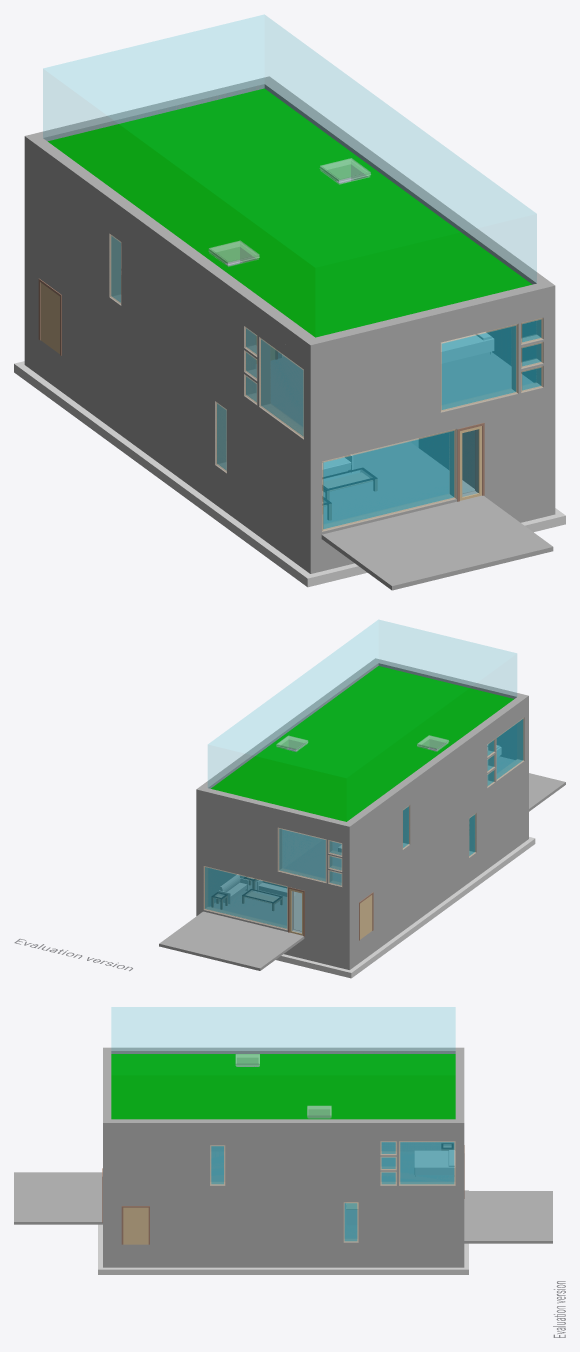
File: Duplex.glb
3 views of the same model, one above another, from view 1: azimuth 30°, elevation 25°; view 2: azimuth 150°, elevation 25°; view 3: azimuth 270°, elevation 25° (orthographic). The views are drawn at different scales.
Parts seen in each view (by area): view 1: 3ThA22djr8AQQ9eQMA5s7I, 0pNy6pOyf7JPmXRLgxs3sW, 2O2Fr$t4X7Zf8NOew3FNhv, 2O2Fr$t4X7Zf8NOew3FLPP, 2O2Fr$t4X7Zf8NOew3FLOH, 1CZILmCaHETO8tf3SgGEXu, 2O2Fr$t4X7Zf8NOew3FNr2, 2O2Fr$t4X7Zf8NOew3FKE5, 1hOSvn6df7F8_7GcBWlRBU, 0jf0rYHfX3RAB3bSIRjmr1, 2OBrcmyk58NupXoVOHUtxr, 0jf0rYHfX3RAB3bSIRjmoa (+21 smaller); view 2: 3ThA22djr8AQQ9eQMA5s7I, 0pNy6pOyf7JPmXRLgxs3sW, 2O2Fr$t4X7Zf8NOew3FNhv, 2O2Fr$t4X7Zf8NOew3FLPP, 2O2Fr$t4X7Zf8NOew3FLQD, 2O2Fr$t4X7Zf8NOew3FNtn, 1CZILmCaHETO8tf3SgGEWh, 2O2Fr$t4X7Zf8NOew3FKE5, 1hOSvn6df7F8_7GcBWlR72, 0jf0rYHfX3RAB3bSIRjmr1, 0jf0rYHfX3RAB3bSIRjmmy, 1hOSvn6df7F8_7GcBWlSXO (+15 smaller); view 3: 3ThA22djr8AQQ9eQMA5s7I, 2O2Fr$t4X7Zf8NOew3FNqI, 2O2Fr$t4X7Zf8NOew3FLR9, 0pNy6pOyf7JPmXRLgxs3sW, 2O2Fr$t4X7Zf8NOew3FK9N, 0jf0rYHfX3RAB3bSIRjmpw, 1CZILmCaHETO8tf3SgGEXu, 1CZILmCaHETO8tf3SgGEWh, 0kF45Qs8L9PAM9kmb1lT5d, 1l0GAJtRTFv8$zmKJOH4pU, 0jf0rYHfX3RAB3bSIRjmr1, 1hOSvn6df7F8_7GcBWlRGQ (+9 smaller).
Boxes of the visible parts, x1=… form: 3ThA22djr8AQQ9eQMA5s7I: x1=48, y1=88, x2=531, y2=337; 0pNy6pOyf7JPmXRLgxs3sW: x1=43, y1=15, x2=536, y2=282; 2O2Fr$t4X7Zf8NOew3FNhv: x1=31, y1=243, x2=303, y2=532; 2O2Fr$t4X7Zf8NOew3FLPP: x1=24, y1=154, x2=310, y2=447; 2O2Fr$t4X7Zf8NOew3FLOH: x1=310, y1=303, x2=555, y2=447; 1CZILmCaHETO8tf3SgGEXu: x1=321, y1=495, x2=553, y2=590; 2O2Fr$t4X7Zf8NOew3FNr2: x1=304, y1=390, x2=543, y2=537; 2O2Fr$t4X7Zf8NOew3FKE5: x1=31, y1=333, x2=303, y2=568; 1hOSvn6df7F8_7GcBWlRBU: x1=322, y1=429, x2=456, y2=531; 0jf0rYHfX3RAB3bSIRjmr1: x1=31, y1=138, x2=314, y2=357; 2OBrcmyk58NupXoVOHUtxr: x1=322, y1=438, x2=475, y2=524; 0jf0rYHfX3RAB3bSIRjmoa: x1=304, y1=283, x2=543, y2=362; 3ThA22djr8AQQ9eQMA5s7I: x1=211, y1=666, x2=513, y2=821; 0pNy6pOyf7JPmXRLgxs3sW: x1=208, y1=620, x2=516, y2=787; 2O2Fr$t4X7Zf8NOew3FNhv: x1=354, y1=763, x2=524, y2=943; 2O2Fr$t4X7Zf8NOew3FLPP: x1=349, y1=707, x2=528, y2=890; 2O2Fr$t4X7Zf8NOew3FLQD: x1=196, y1=800, x2=349, y2=890; 2O2Fr$t4X7Zf8NOew3FNtn: x1=196, y1=853, x2=353, y2=947; 1CZILmCaHETO8tf3SgGEWh: x1=159, y1=911, x2=304, y2=970; 2O2Fr$t4X7Zf8NOew3FKE5: x1=354, y1=819, x2=524, y2=966; 1hOSvn6df7F8_7GcBWlR72: x1=203, y1=866, x2=287, y2=929; 0jf0rYHfX3RAB3bSIRjmr1: x1=347, y1=697, x2=524, y2=834; 0jf0rYHfX3RAB3bSIRjmmy: x1=196, y1=786, x2=353, y2=837; 1hOSvn6df7F8_7GcBWlSXO: x1=278, y1=827, x2=326, y2=882; 3ThA22djr8AQQ9eQMA5s7I: x1=111, y1=1054, x2=455, y2=1119; 2O2Fr$t4X7Zf8NOew3FNqI: x1=103, y1=1187, x2=455, y2=1244; 2O2Fr$t4X7Zf8NOew3FLR9: x1=103, y1=1134, x2=464, y2=1187; 0pNy6pOyf7JPmXRLgxs3sW: x1=112, y1=1007, x2=454, y2=1053; 2O2Fr$t4X7Zf8NOew3FK9N: x1=103, y1=1244, x2=455, y2=1267; 0jf0rYHfX3RAB3bSIRjmpw: x1=103, y1=1119, x2=455, y2=1134; 1CZILmCaHETO8tf3SgGEXu: x1=14, y1=1172, x2=102, y2=1224; 1CZILmCaHETO8tf3SgGEWh: x1=464, y1=1191, x2=552, y2=1243; 0kF45Qs8L9PAM9kmb1lT5d: x1=98, y1=1262, x2=468, y2=1274; 1l0GAJtRTFv8$zmKJOH4pU: x1=399, y1=1141, x2=455, y2=1185; 0jf0rYHfX3RAB3bSIRjmr1: x1=111, y1=1047, x2=455, y2=1053; 1hOSvn6df7F8_7GcBWlRGQ: x1=121, y1=1206, x2=149, y2=1244.
Size of the model in its own units: 16.6 by 10.55 by 27.2.
